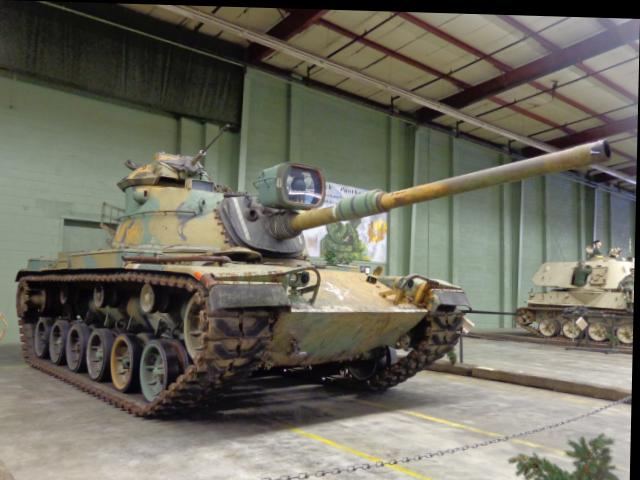tank: (7, 186, 451, 429)
